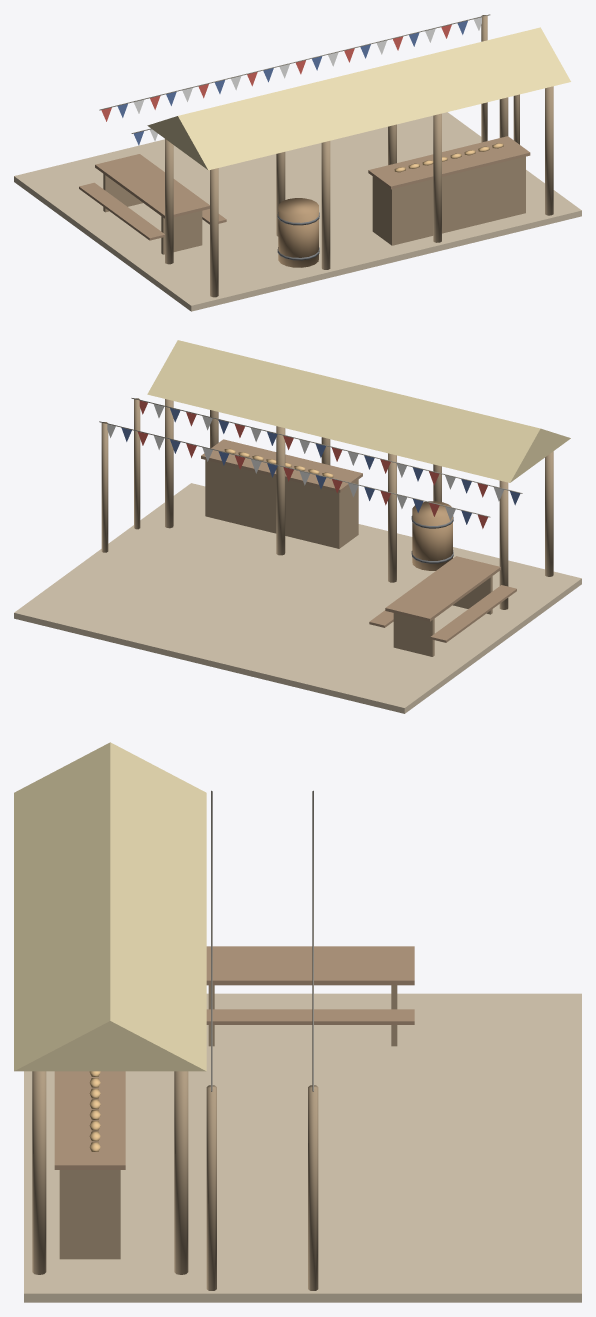
The model's file is salida.fonda.fbx.
The picture shows the model from 3 angles, top to bottom: view 1: azimuth 30°, elevation 25°; view 2: azimuth 150°, elevation 25°; view 3: azimuth 270°, elevation 25°; orthographic projection. The views are drawn at different scales.
Parts seen in each view (by area): view 1: Suelo, Techo de paja, Mesón de las empanadas, Cubierta del mesón, Mesa, Barril de chicha, Banca.001, Palo.005, Pata.001, Palo.001, Palo.003, Palo.007 (+6 smaller); view 2: Suelo, Techo de paja, Mesón de las empanadas, Mesa, Cubierta del mesón, Barril de chicha, Pata, Banca.001, Palo.002, Palo.004, Palo, Palo.007 (+6 smaller); view 3: Suelo, Techo de paja, Mesa, Cubierta del mesón, Mesón de las empanadas, Banca, Palo, Palo.001, Poste del cordel, Poste del cordel.001.
Boxes of the visible parts, box(x1,y1,x2,y2) form: Suelo: box(14, 112, 581, 311); Techo de paja: box(147, 27, 570, 170); Mesón de las empanadas: box(372, 156, 525, 245); Cubierta del mesón: box(368, 136, 530, 189); Mesa: box(95, 154, 209, 218); Barril de chicha: box(278, 198, 318, 267); Banca.001: box(79, 182, 164, 240); Palo.005: box(321, 141, 330, 269); Pata.001: box(161, 211, 202, 254); Palo.001: box(545, 86, 553, 215); Palo.003: box(433, 113, 441, 242); Palo.007: box(210, 168, 218, 297); Suelo: box(14, 483, 581, 713); Techo de paja: box(147, 340, 570, 482); Mesón de las empanadas: box(205, 460, 358, 548); Mesa: box(385, 556, 500, 621); Cubierta del mesón: box(201, 439, 362, 492); Barril de chicha: box(412, 501, 452, 570); Pata: box(393, 613, 434, 656); Banca.001: box(430, 585, 516, 642); Palo.002: box(276, 426, 285, 555); Palo.004: box(388, 453, 396, 582); Palo: box(165, 399, 173, 528); Palo.007: box(545, 451, 553, 576); Suelo: box(24, 993, 581, 1302); Techo de paja: box(14, 742, 206, 1071); Mesa: box(206, 946, 414, 985); Cubierta del mesón: box(54, 1071, 125, 1169); Mesón de las empanadas: box(59, 1170, 120, 1259); Banca: box(206, 1009, 414, 1024); Palo: box(174, 1071, 188, 1274); Palo.001: box(32, 1071, 46, 1274); Poste del cordel: box(206, 1085, 216, 1290); Poste del cordel.001: box(308, 1085, 318, 1290).
Bounding box in the file's own units: 7 × 2.95 × 5.6.
